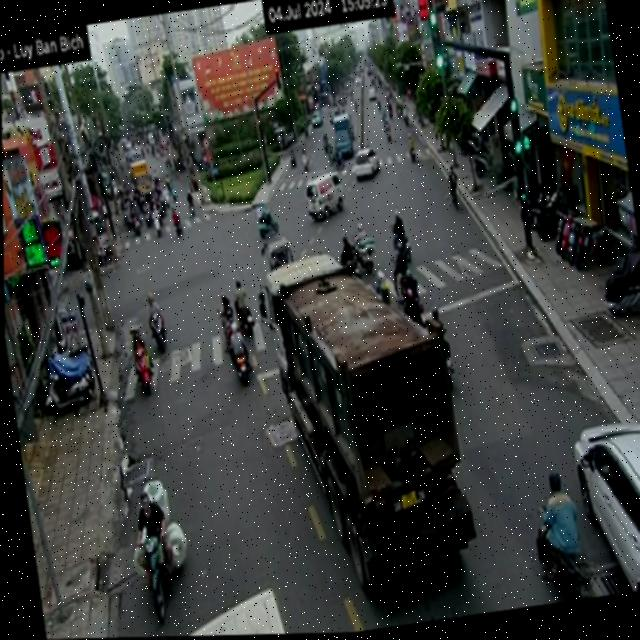Green: (425, 5, 449, 86), (503, 92, 527, 169), (519, 191, 528, 209)
